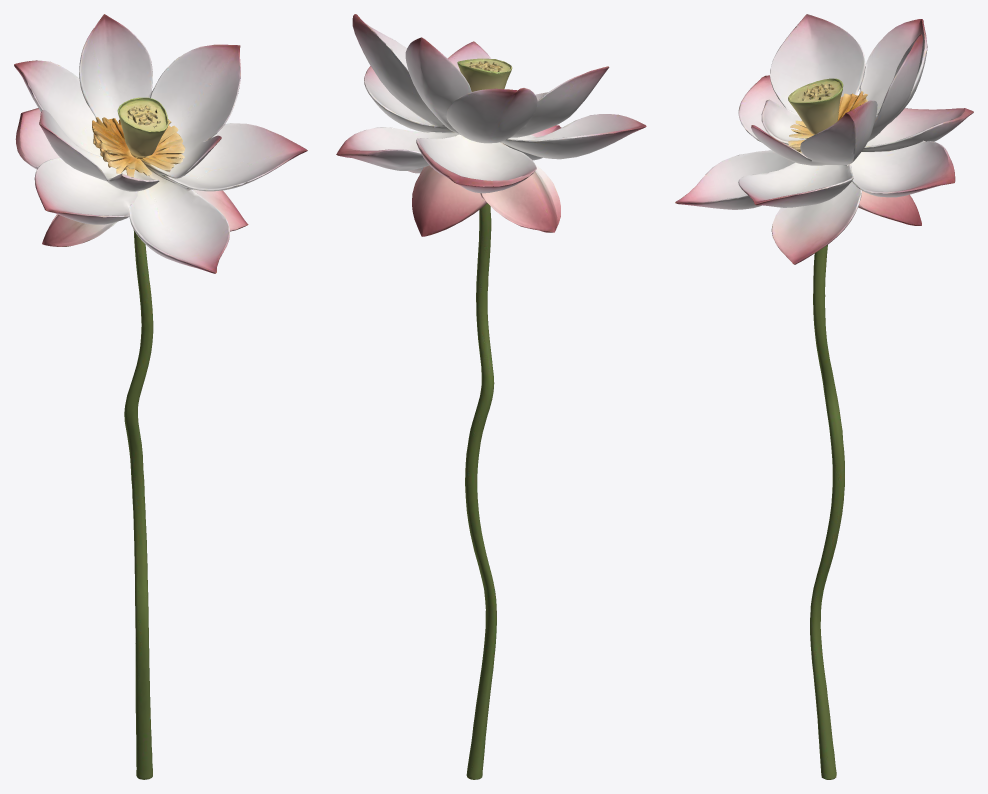
Rendered from lotus-bloom.glb.
3 views of the same model, side by side, from view 1: azimuth 30°, elevation 25°; view 2: azimuth 150°, elevation 25°; view 3: azimuth 270°, elevation 25° (orthographic). The views are drawn at different scales.
Parts seen in each view (by area): view 1: lotus-bloom; view 2: lotus-bloom; view 3: lotus-bloom.
Part boxes in pixels (x1,y1,x2,y2): lotus-bloom: [14, 14, 307, 779]; lotus-bloom: [336, 14, 646, 779]; lotus-bloom: [675, 14, 973, 779].
Size of the model in its own units: 0.61 by 1.65 by 0.5993.
Materials: 1 (1 with a texture image).
